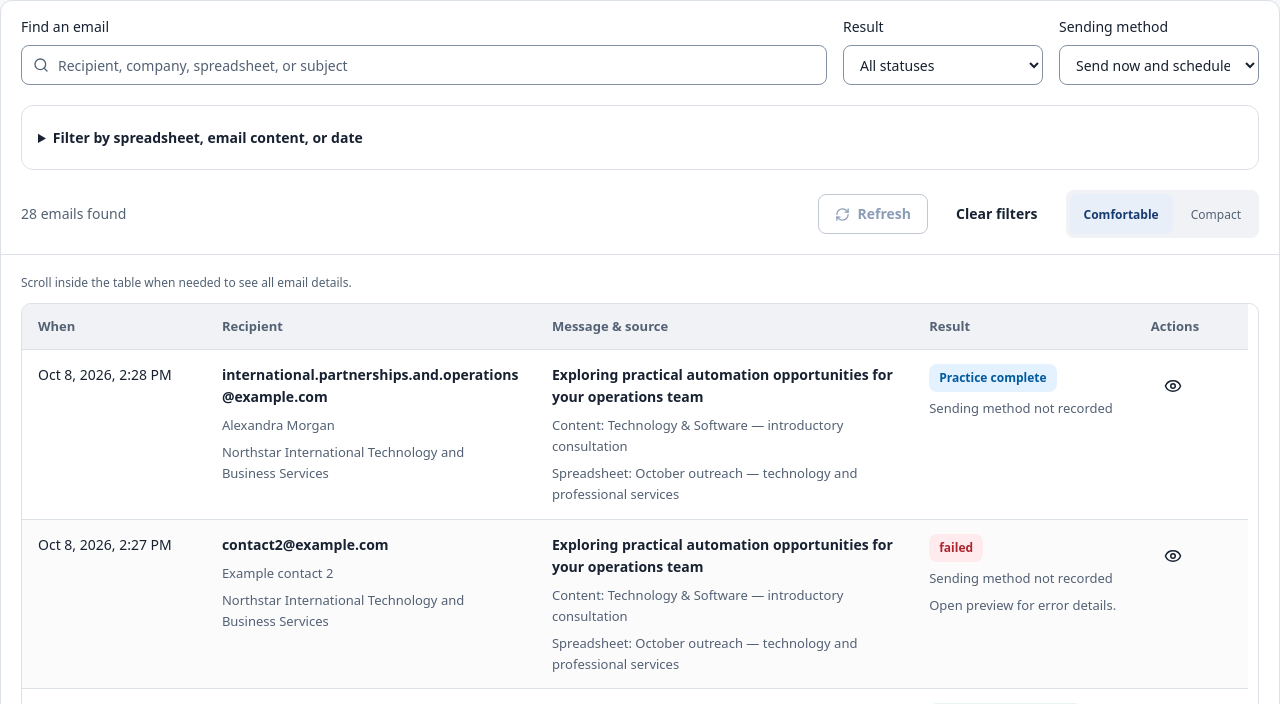
it: readable history › keeps saved HTML sanitized and hides resend actions for fictional preview data
Click the button named "View full email to international.partnerships.and.operations@example.com": x=1173, y=386 [1151,364,1195,408]
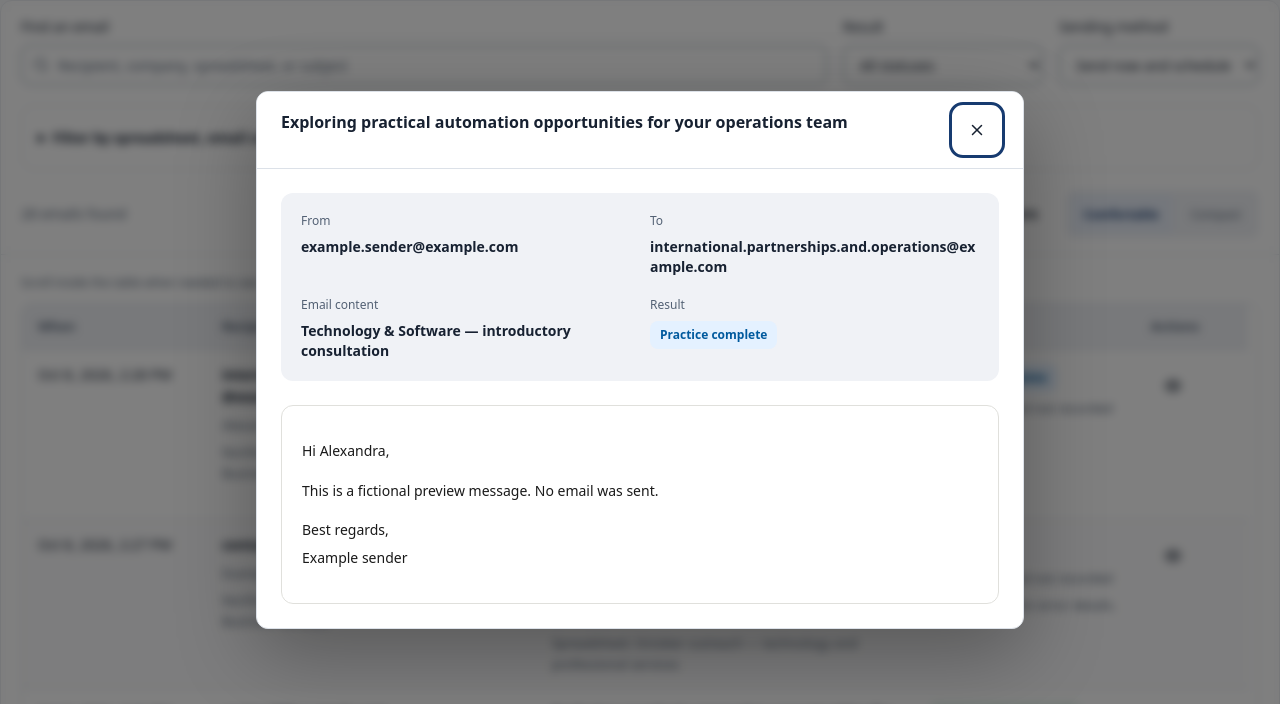
Expected: the text "This is a fictional preview message. No email was sent." is shown, [302,480,658,500]
